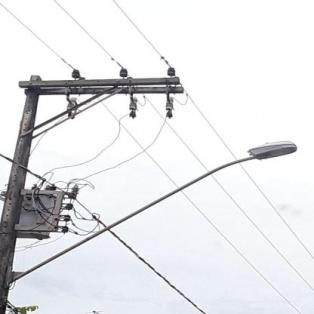Poste: (0, 68, 53, 314)
